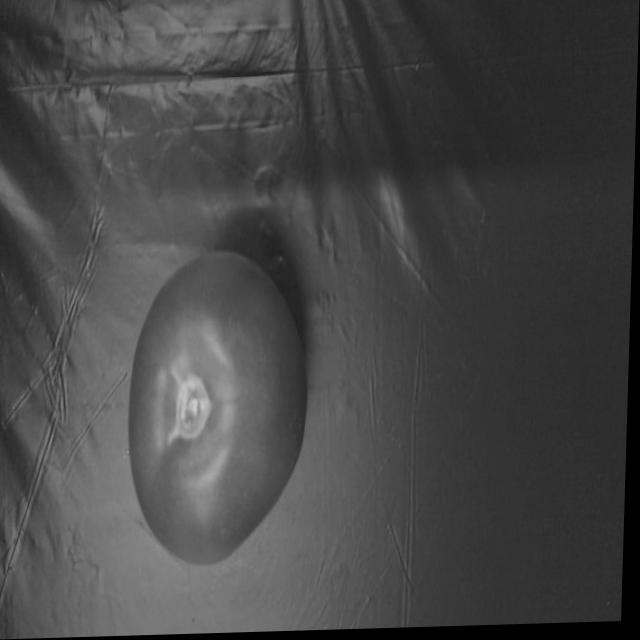kirmizi: (122, 227, 310, 580)
